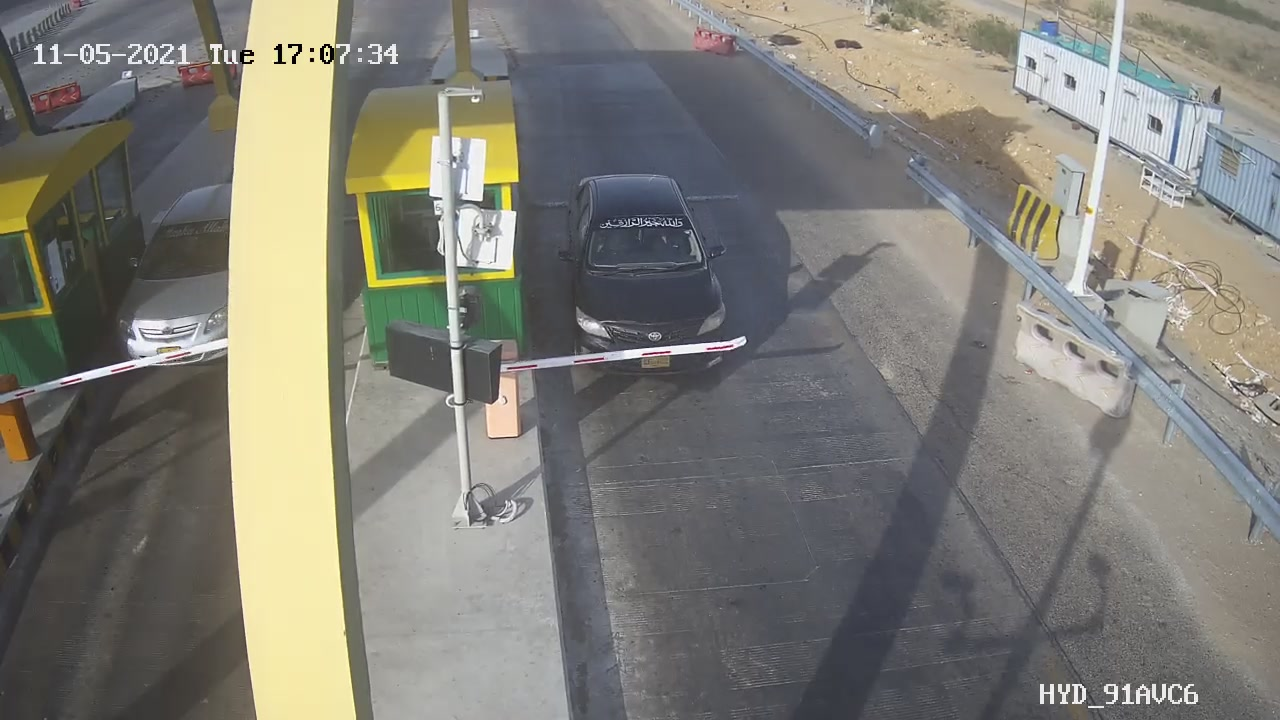F1: (544, 155, 755, 391)
